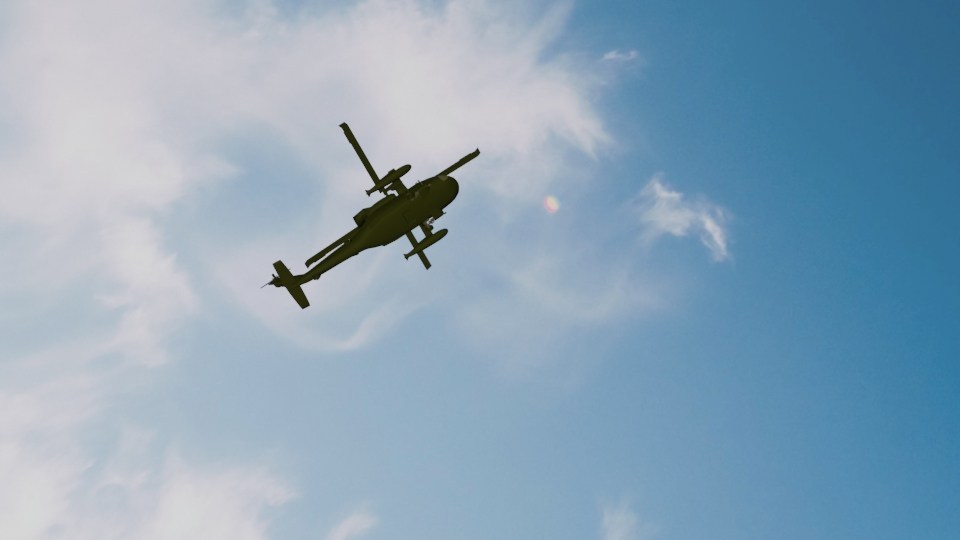heli: (267, 123, 482, 311)
